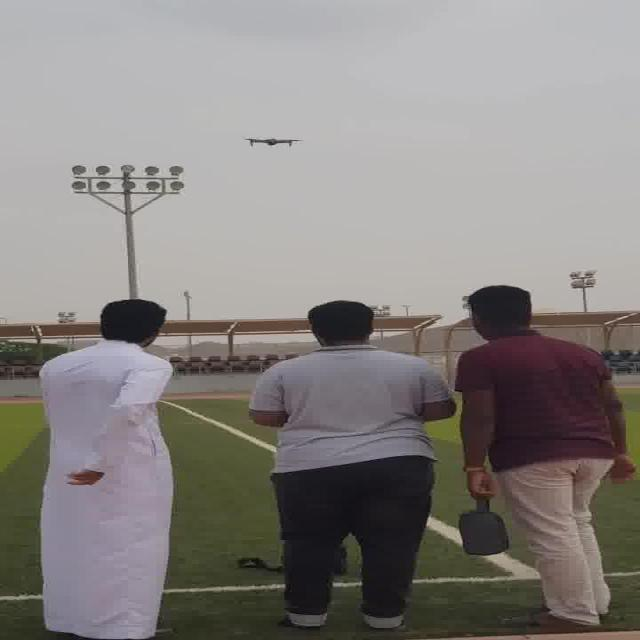drone: (232, 132, 309, 150)
